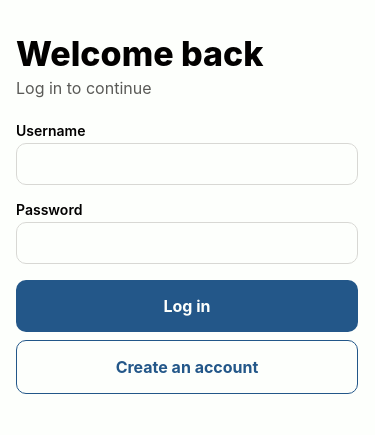
Scenario: LoginScreen › shows the server error message in a banner when login fails
The width and height of the screenshot is (375, 435).
Type "john" into the field named "Username".
click(187, 164); type("john")  # box [16,142,358,184]
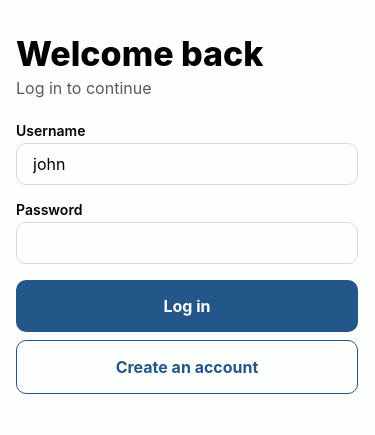
Type "wrongpassword" into the password field named "Password".
click(187, 242); type("wrongpassword")  # box [16,222,358,264]
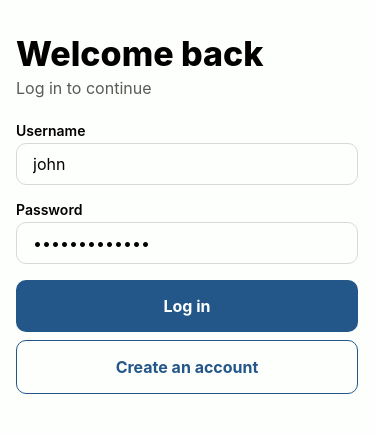
Click the text "Log in".
click(187, 306)  # box [164,296,211,316]
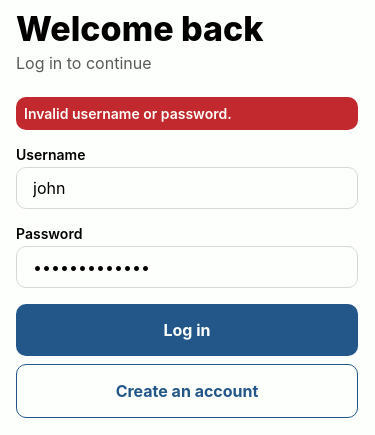
Check: the text "Invalid username or password." is shown, box [24,105,232,122]
